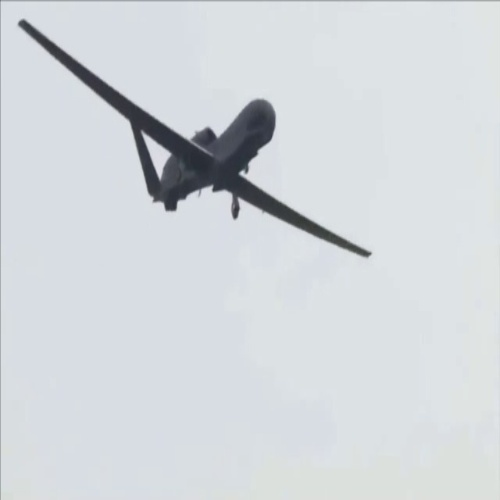uav: (13, 17, 374, 258)
